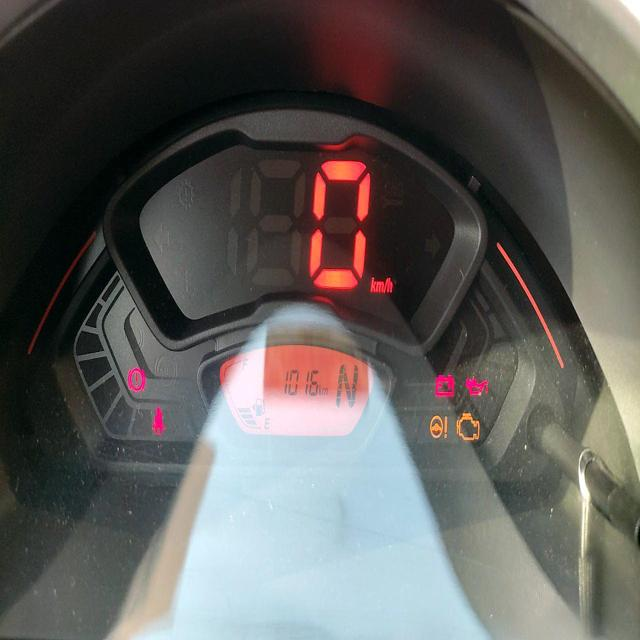odometer: (281, 362, 322, 400)
